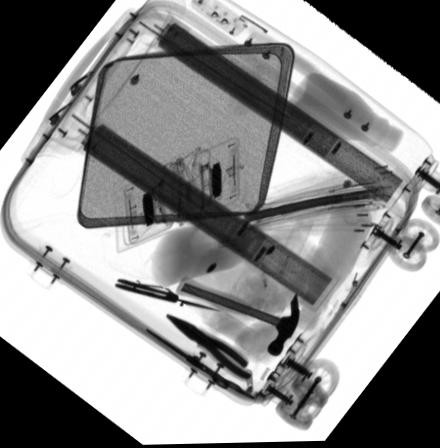Hammer: (173, 274, 300, 358)
Knife: (112, 276, 223, 313)
Pliers: (165, 313, 253, 383)
Scissors: (143, 327, 258, 401)
